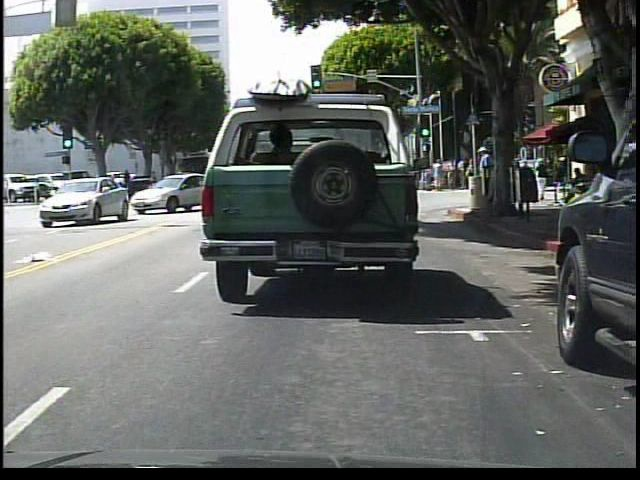person: (563, 165, 594, 208), (504, 152, 522, 218), (478, 146, 495, 206), (537, 157, 550, 200), (526, 165, 539, 204), (434, 158, 445, 192), (447, 158, 458, 191), (462, 157, 471, 190), (423, 164, 433, 192)
